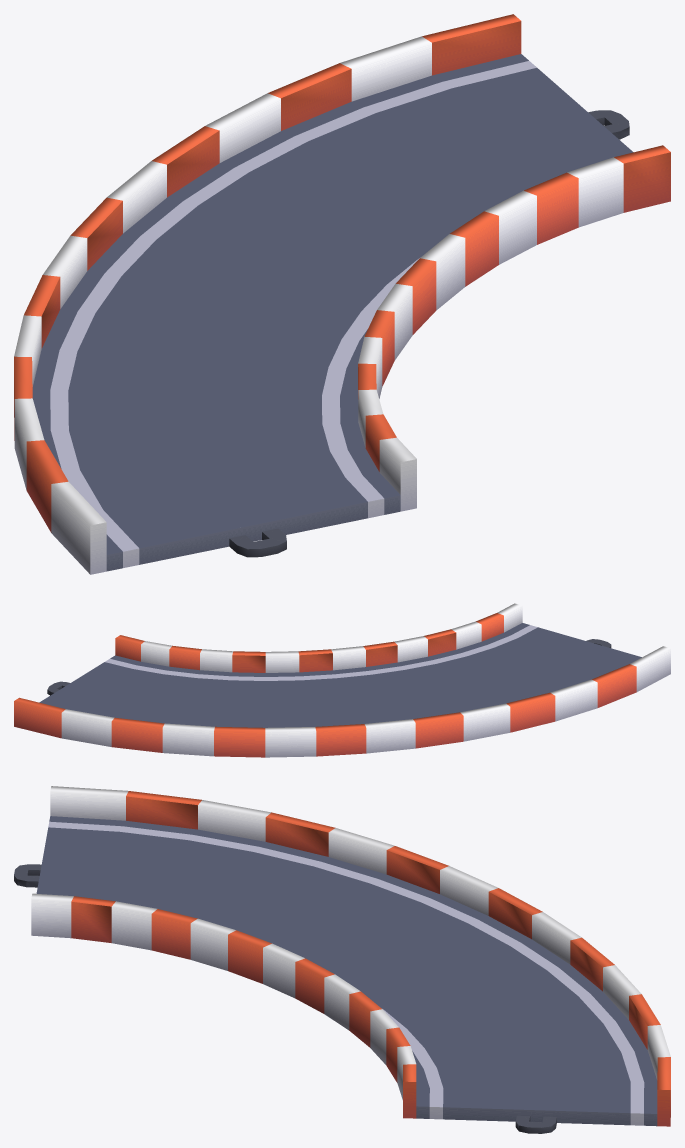
The model's file is track-road-wide-corner-large.006_lev2.glb.
The picture shows the model from 3 angles, top to bottom: view 1: azimuth 30°, elevation 25°; view 2: azimuth 150°, elevation 25°; view 3: azimuth 270°, elevation 25°; orthographic projection. The views are drawn at different scales.
Parts seen in each view (by area): view 1: track-road-wide-corner-large.006_lev2; view 2: track-road-wide-corner-large.006_lev2; view 3: track-road-wide-corner-large.006_lev2.
Boxes of the visible parts, x1,y1,x2,y2 form: track-road-wide-corner-large.006_lev2: [14, 14, 670, 574]; track-road-wide-corner-large.006_lev2: [14, 603, 670, 757]; track-road-wide-corner-large.006_lev2: [14, 786, 670, 1133].
Bounding box in the file's own units: 5.49 × 0.3 × 4.89.
Materials: 1 (1 with a texture image).
